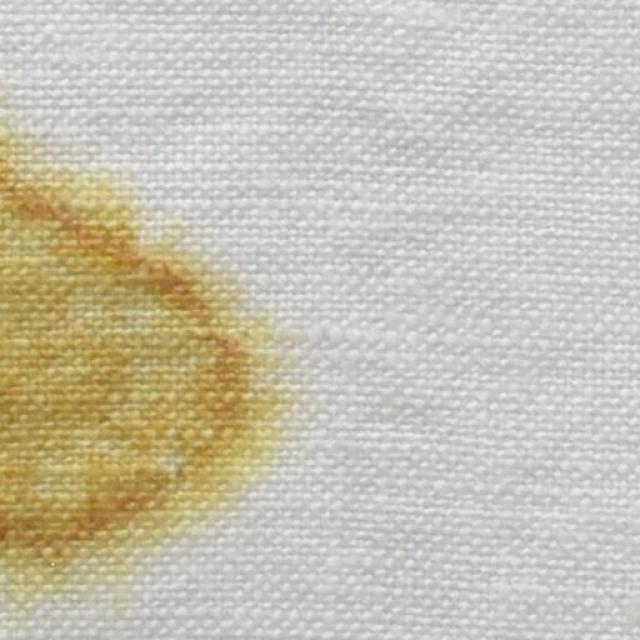Stain: (0, 118, 294, 632)
